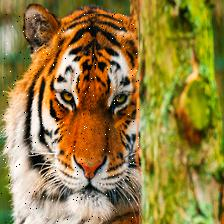tiger: (0, 15, 138, 224)
